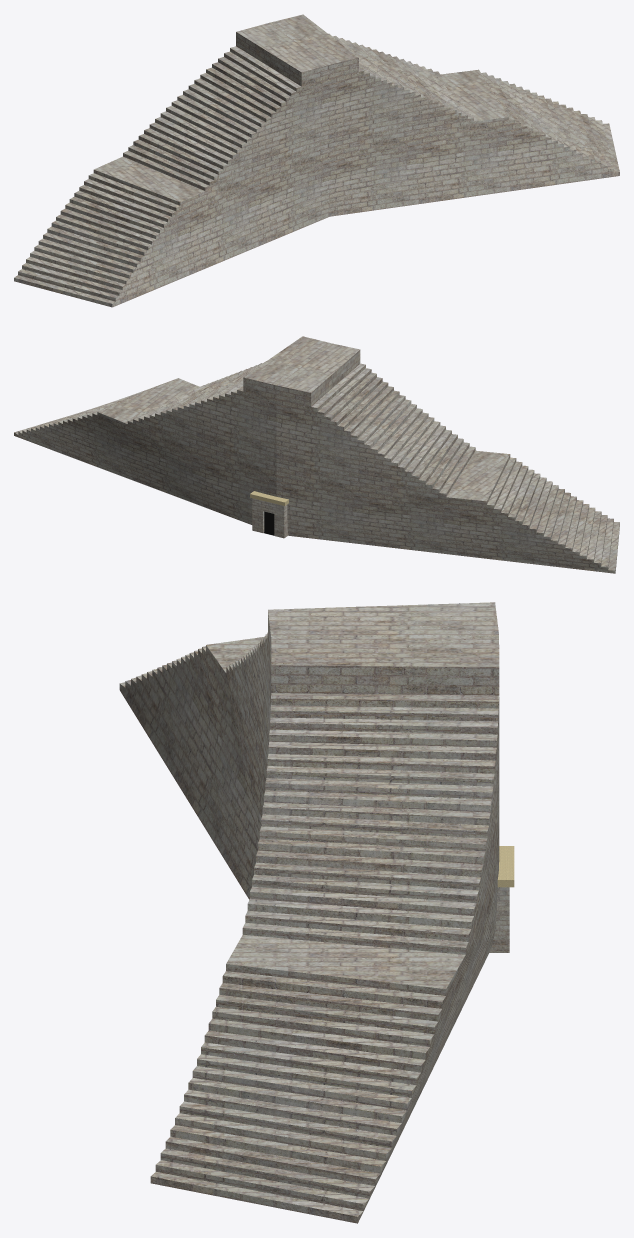
File: TopStairs.FBX
The picture shows the model from 3 angles, top to bottom: view 1: azimuth 30°, elevation 25°; view 2: azimuth 150°, elevation 25°; view 3: azimuth 270°, elevation 25°; orthographic projection. The views are drawn at different scales.
Visible parts, largest first — view 1: StraightStair003; view 2: StraightStair003, Box001; view 3: StraightStair003, Box001.
Boxes of the visible parts, bbox=[...] form: StraightStair003: bbox=[14, 14, 619, 307]; StraightStair003: bbox=[14, 336, 619, 573]; Box001: bbox=[252, 498, 288, 538]; StraightStair003: bbox=[119, 602, 499, 1223]; Box001: bbox=[489, 887, 509, 952].
Size of the model in its own units: 2915 by 703 by 840.
